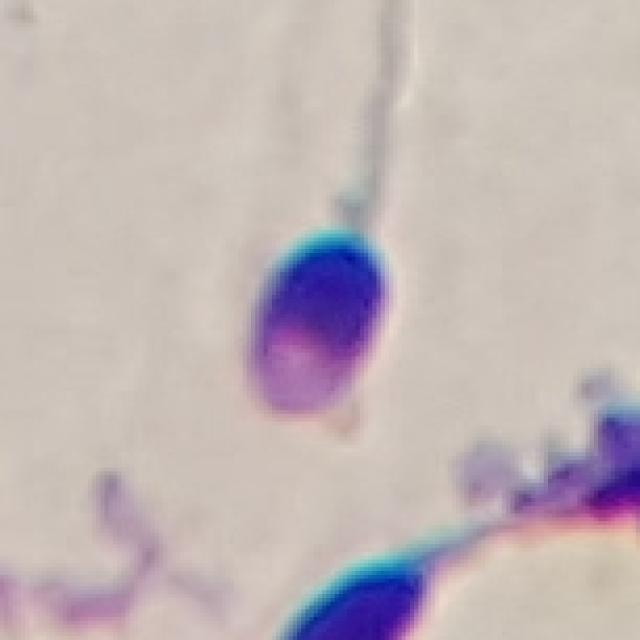normal sperm: (247, 126, 398, 422)
